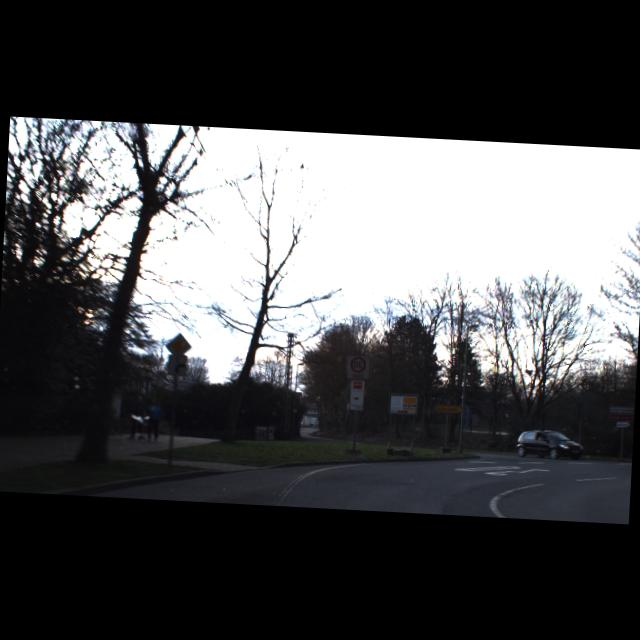other: (166, 332, 193, 358)
prohibitory: (350, 355, 367, 373)
